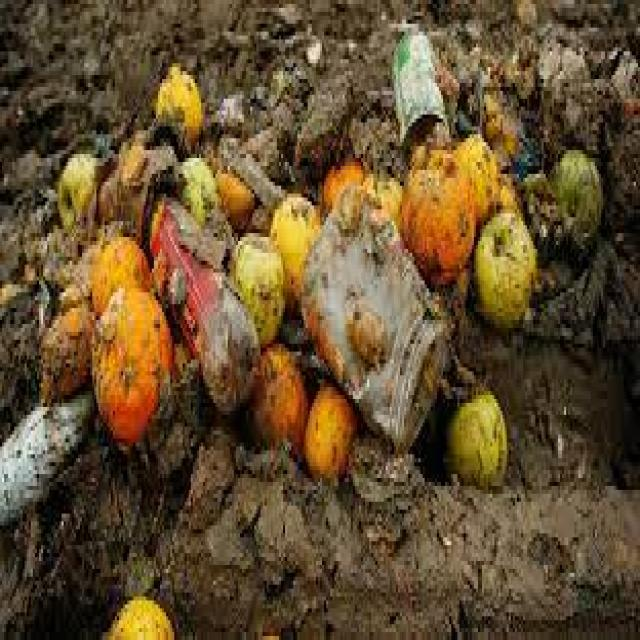Organik: (0, 0, 640, 640), (32, 22, 630, 499)
